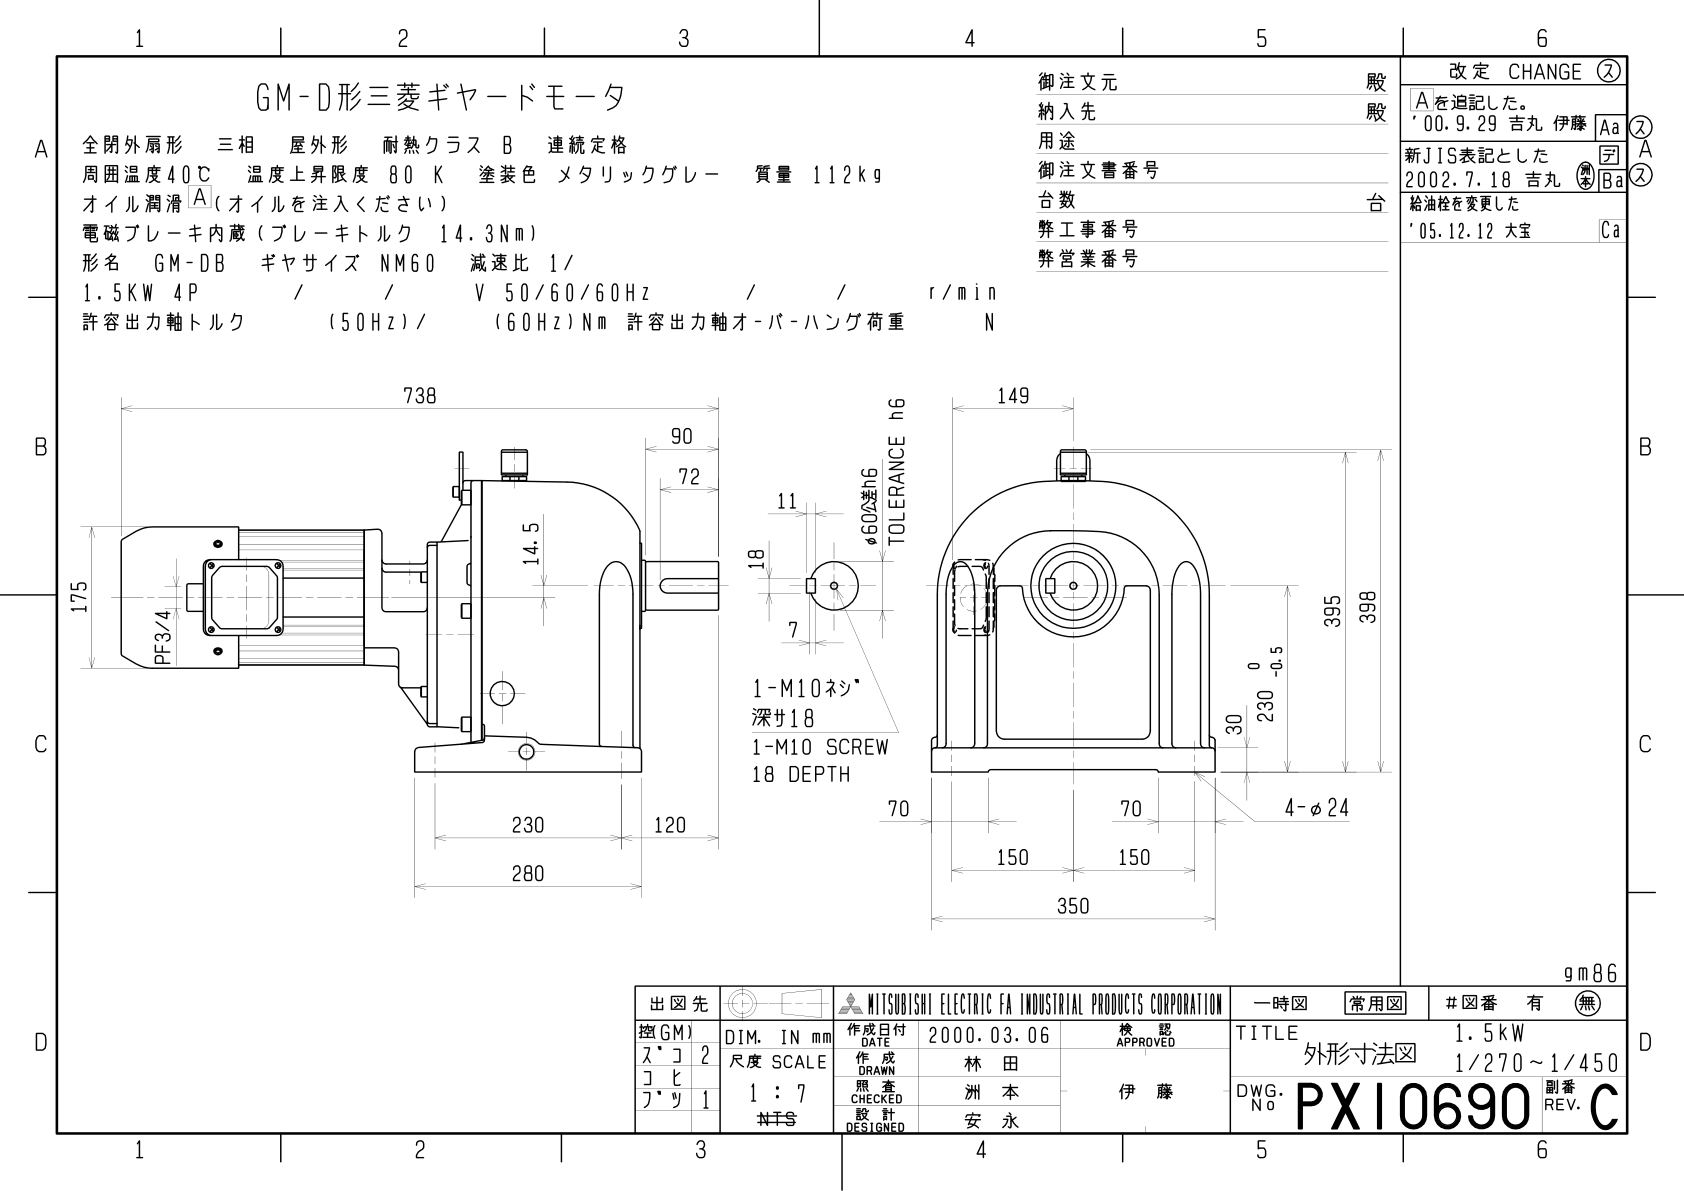GM_D_屋外＿三相_脚: (5, 4, 1684, 1191)
